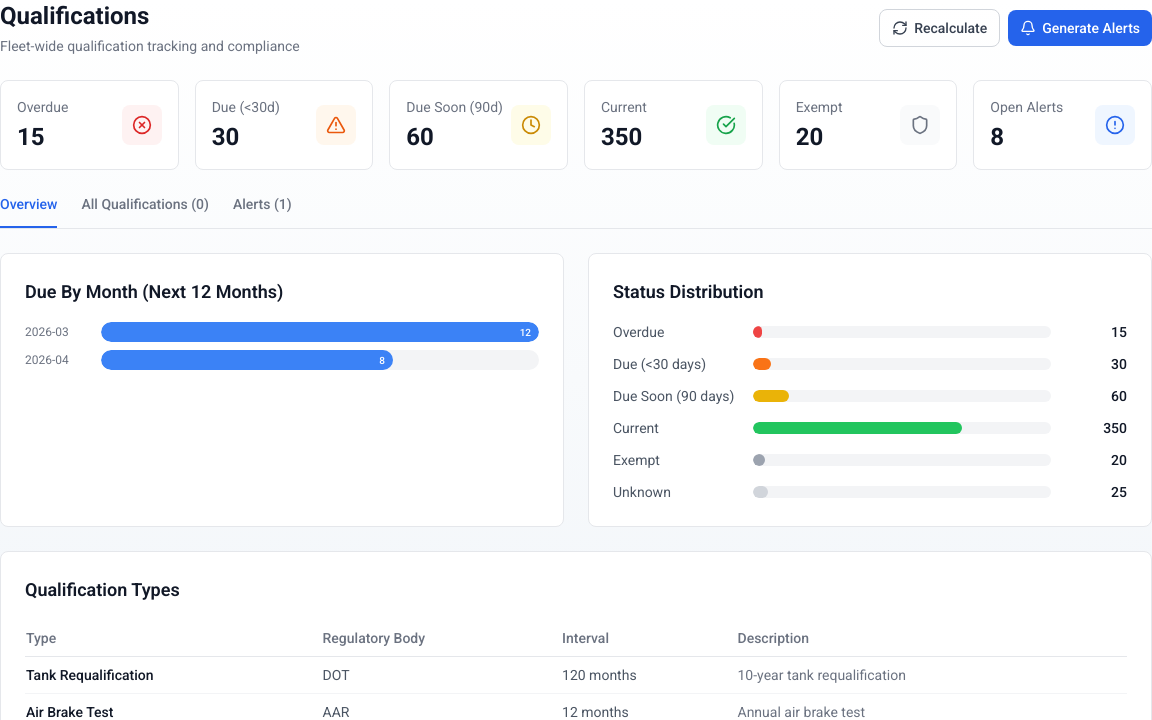
Test: QualificationsPage › shows alerts tab with alert data
The width and height of the screenshot is (1152, 720).
Click the button "Alerts (1)": (262, 211) 233,194 -> 292,228
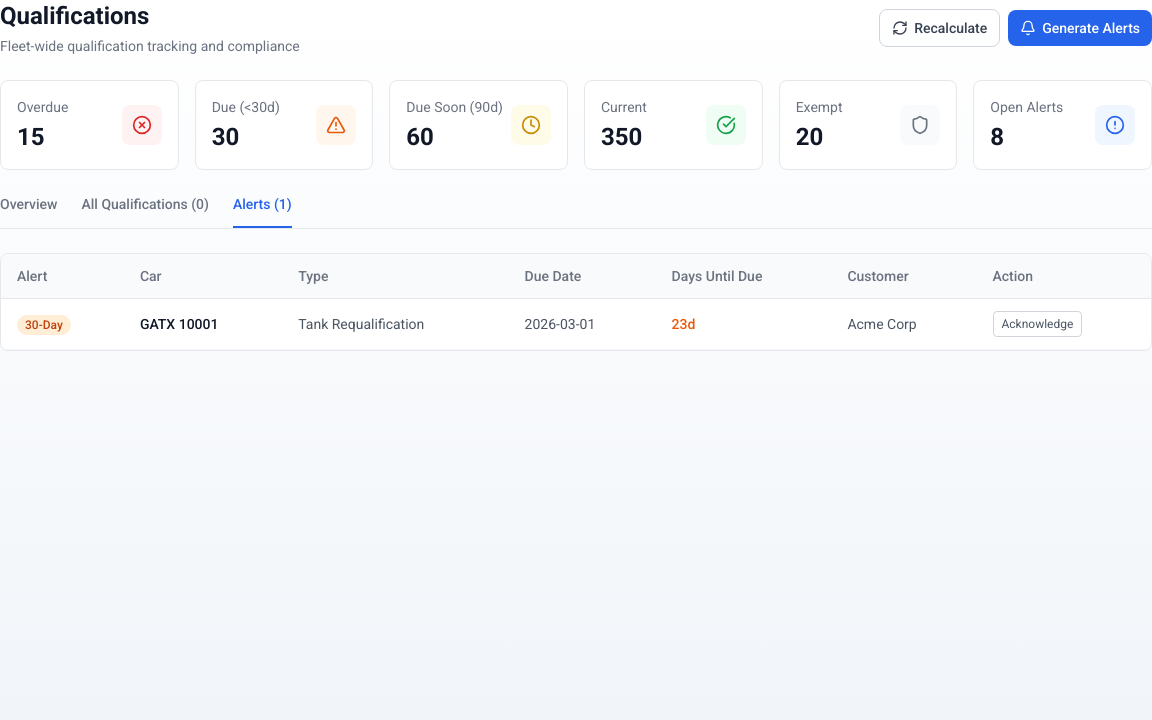
Now the text "30-Day" is shown, box 17,314 -> 71,334
Now the text "23d" is shown, box 672,316 -> 695,332
Now the button "Acknowledge" is shown, box 992,311 -> 1082,337
